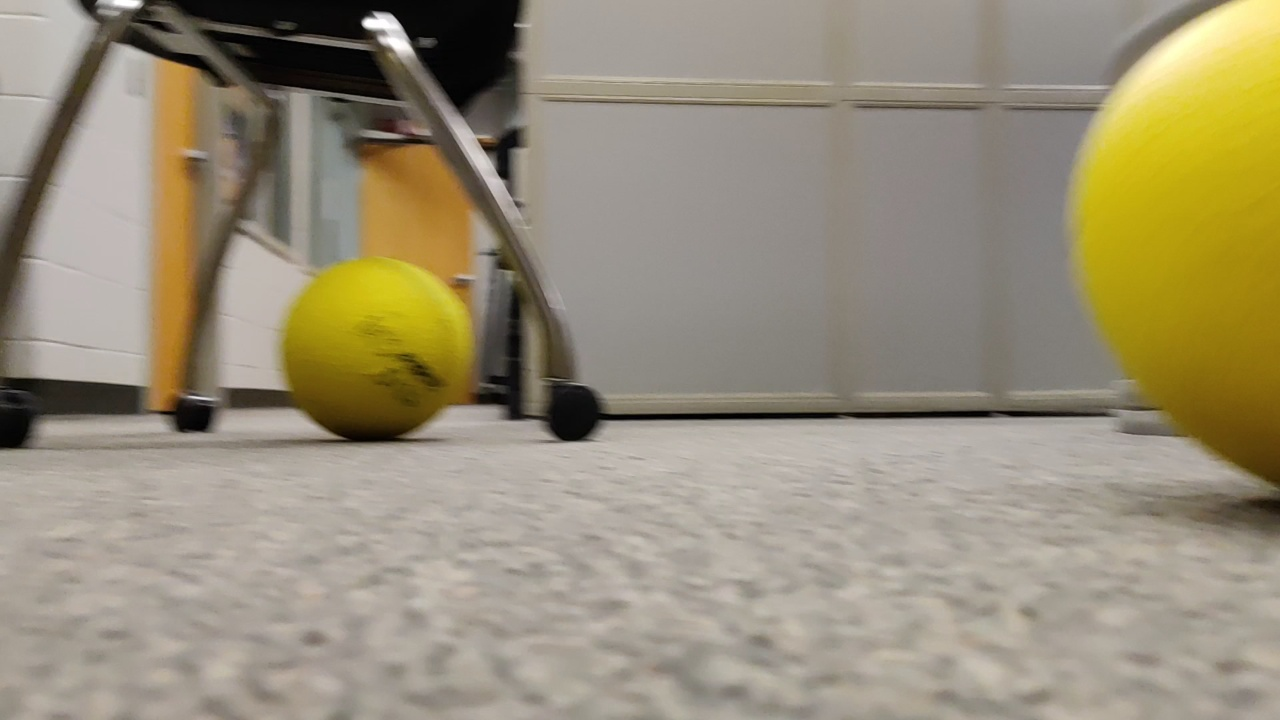Ball: (1048, 1, 1280, 494), (285, 257, 476, 445)
